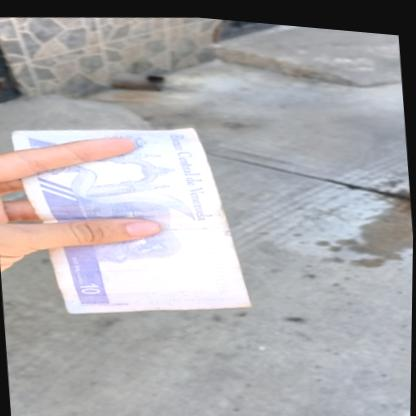ten-back-vef: (7, 108, 258, 331)
